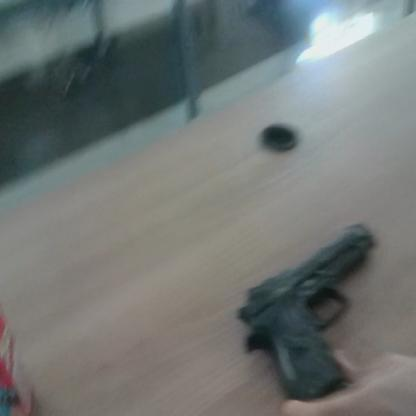handgun: (219, 165, 392, 416)
